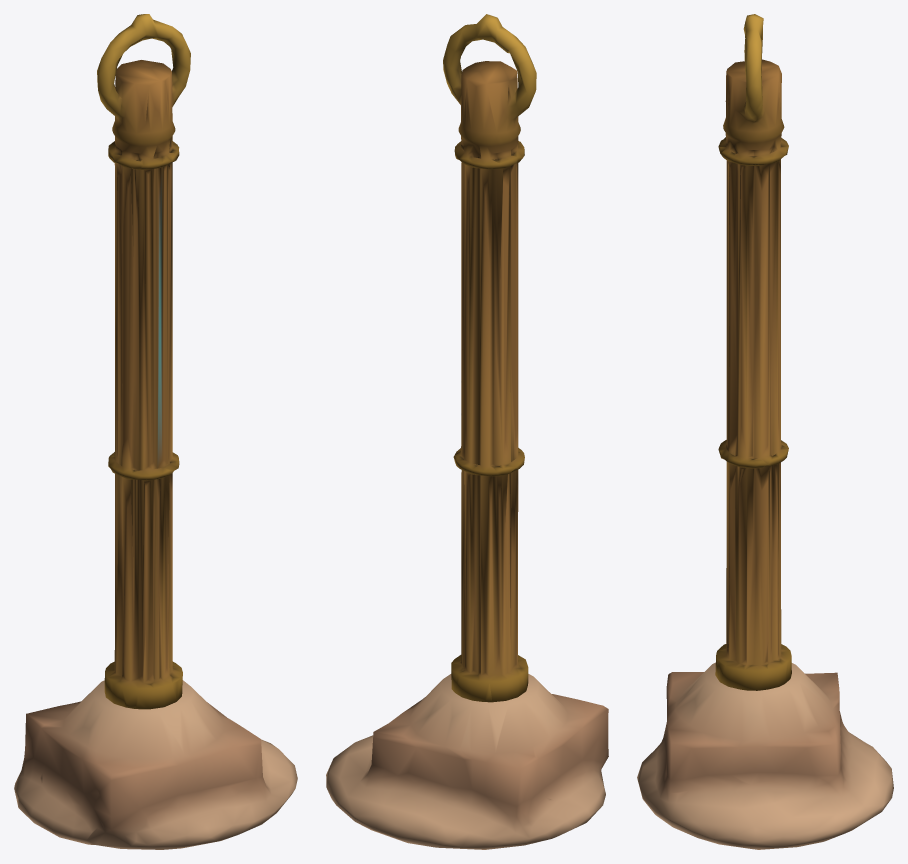
File: cabeco.glb
The picture shows the model from 3 angles, left to right: view 1: azimuth 30°, elevation 25°; view 2: azimuth 150°, elevation 25°; view 3: azimuth 270°, elevation 25°; orthographic projection. The views are drawn at different scales.
Visible parts, largest first — view 1: Coluna, Base; view 2: Coluna, Base; view 3: Coluna, Base.
Boxes of the visible parts, box(x1,y1,x2,y2) form: Coluna: box(97, 14, 190, 709); Base: box(14, 680, 297, 849); Coluna: box(443, 14, 536, 702); Base: box(326, 674, 608, 849); Coluna: box(715, 14, 791, 690); Base: box(637, 662, 893, 849).
Size of the model in its own units: 1.11 by 3.42 by 1.01.
